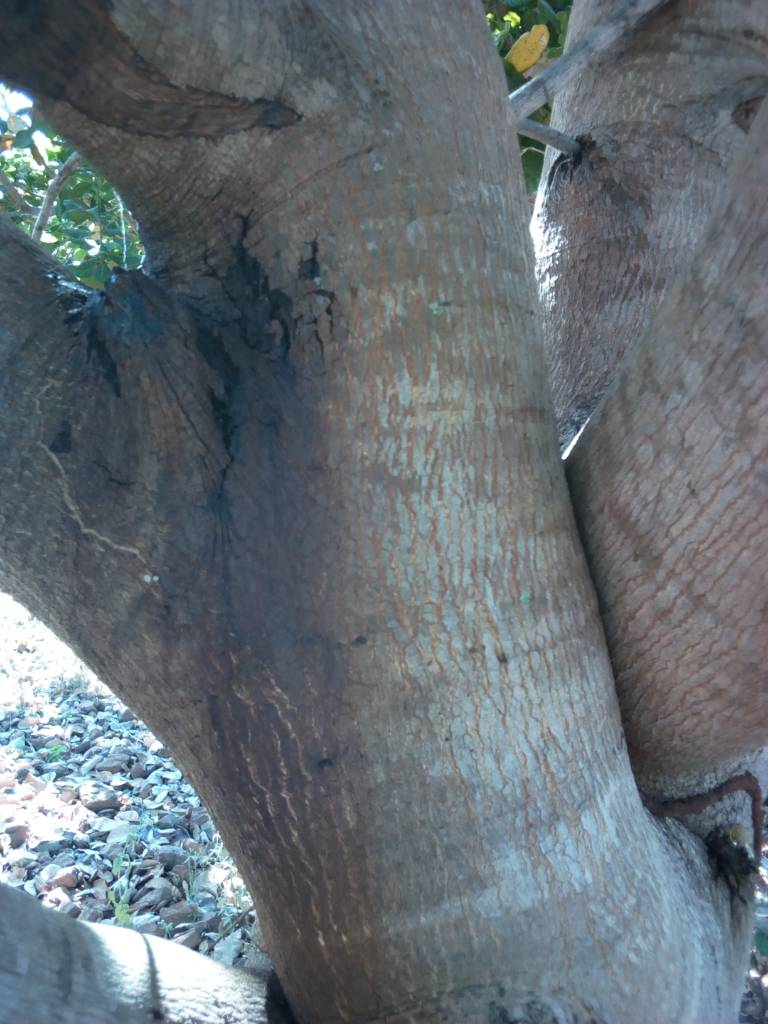Gommose: (54, 246, 352, 652)
